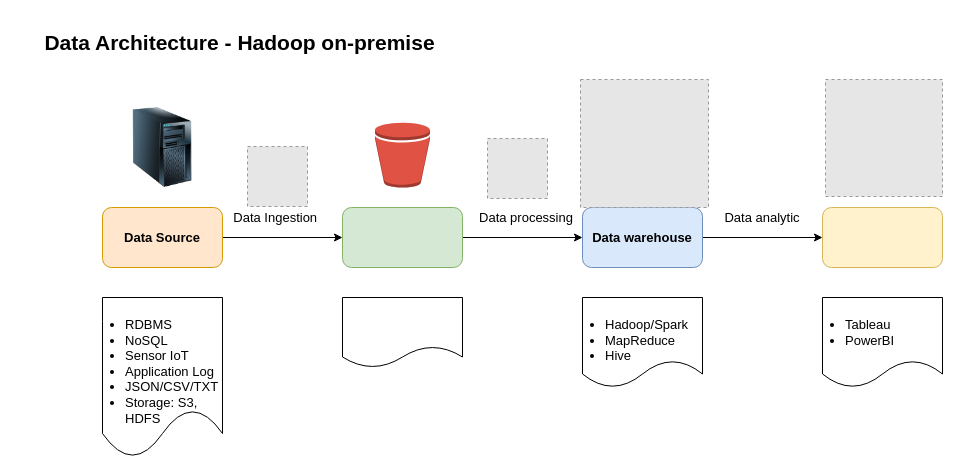
This 960x475 diagram has some shape labels left out. Grey dashed boxes stand in for pictures. Here are the shapes that lost their labels. From the top down, the centre of each, then its label:
the point at 402,237: Data Lake
the point at 882,237: Visualization
the point at 402,332: Hadoop HDFS
